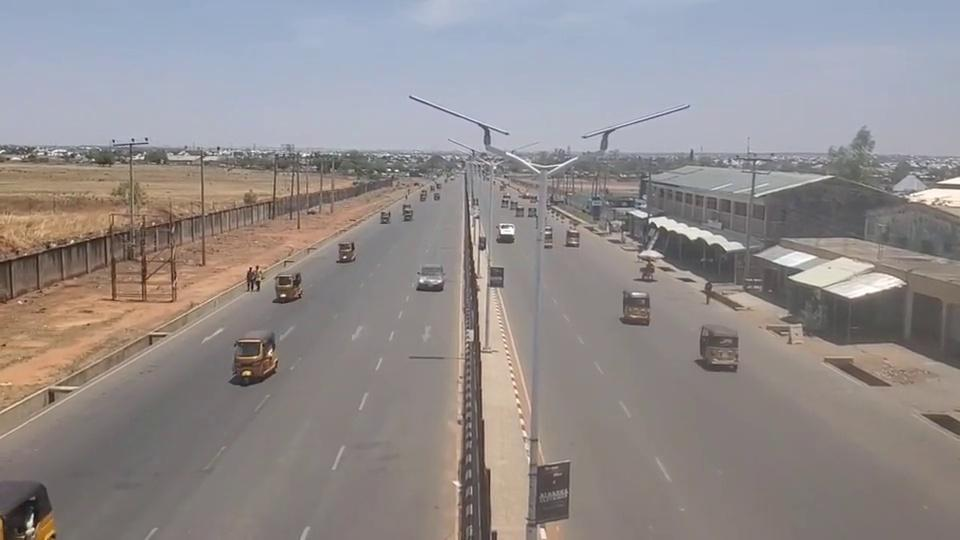keke: (232, 329, 278, 383), (698, 323, 739, 370), (621, 289, 650, 325), (274, 271, 303, 301)
